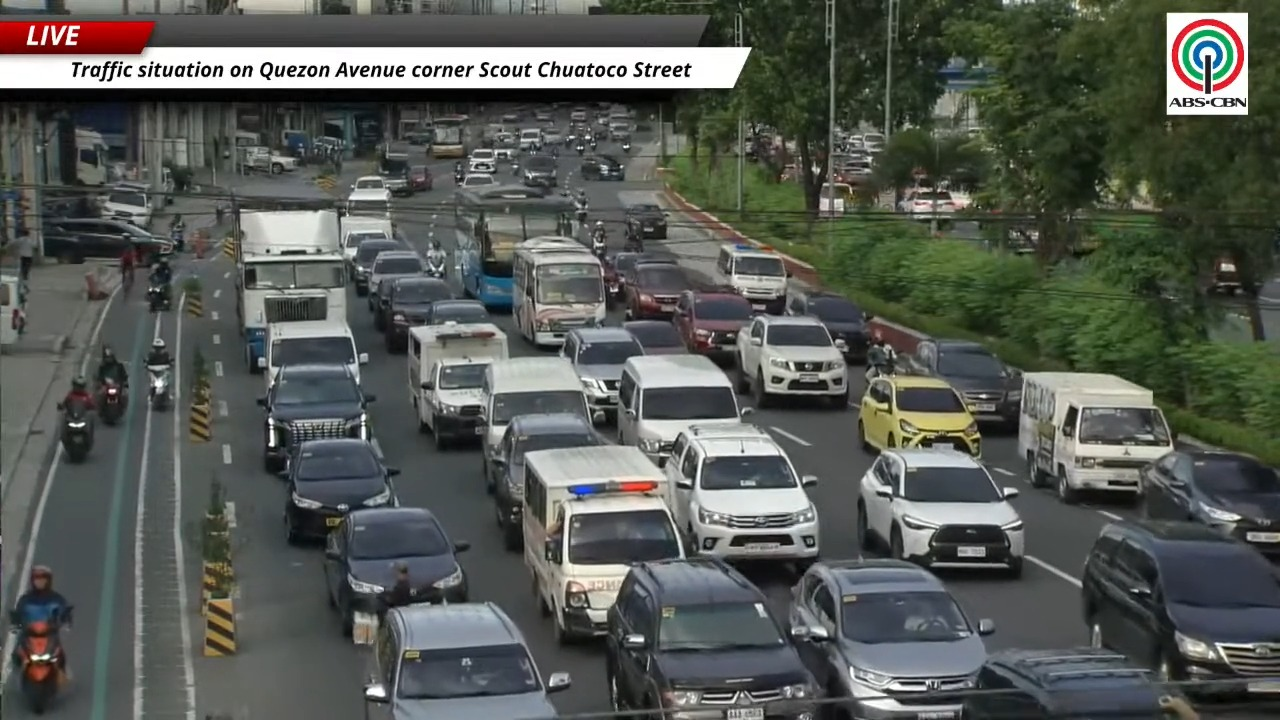bus: (455, 186, 572, 308), (512, 238, 606, 347), (431, 116, 466, 158)
car: (1081, 519, 1279, 695), (605, 558, 821, 719), (790, 559, 994, 719), (661, 421, 820, 573), (364, 603, 570, 719), (857, 449, 1024, 577), (324, 505, 468, 634), (485, 413, 606, 551), (957, 647, 1183, 719), (1139, 448, 1279, 555), (258, 363, 374, 473), (280, 438, 399, 543), (895, 338, 1022, 427), (735, 315, 848, 408), (857, 375, 981, 456), (561, 327, 644, 417), (785, 288, 868, 362), (42, 218, 173, 264), (378, 276, 455, 352), (673, 289, 753, 361), (366, 250, 425, 330), (624, 263, 693, 319), (605, 251, 678, 301), (351, 239, 404, 296), (342, 227, 395, 278), (100, 182, 154, 228), (622, 320, 687, 354), (899, 189, 955, 225), (422, 297, 490, 324), (624, 203, 667, 239), (520, 154, 557, 186), (579, 155, 624, 180), (493, 133, 520, 162), (468, 148, 496, 174), (408, 165, 432, 192), (461, 172, 499, 187), (351, 175, 388, 190), (543, 124, 563, 146), (570, 107, 587, 123), (500, 112, 521, 124), (534, 110, 553, 123)
motorcycle: (10, 607, 71, 714), (58, 403, 93, 463), (100, 378, 126, 425), (147, 366, 171, 411), (147, 283, 171, 312), (865, 361, 895, 381), (169, 215, 184, 251), (591, 235, 606, 261), (623, 234, 643, 252), (425, 263, 445, 279), (575, 207, 586, 225), (454, 170, 464, 185), (621, 141, 630, 153), (512, 161, 519, 176), (589, 139, 597, 151), (576, 143, 584, 155)
truck: (522, 445, 685, 641), (1017, 372, 1173, 503), (236, 209, 346, 372), (407, 323, 508, 447), (258, 318, 368, 390), (340, 215, 395, 269), (74, 127, 109, 186), (377, 142, 411, 195), (237, 146, 298, 174)
